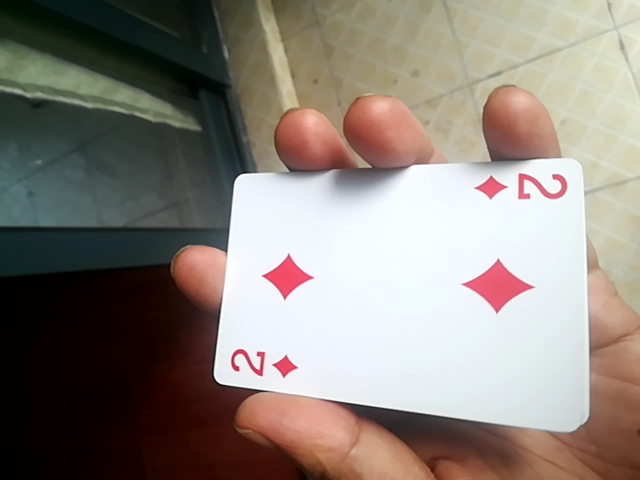fk 2: (210, 152, 594, 443)
